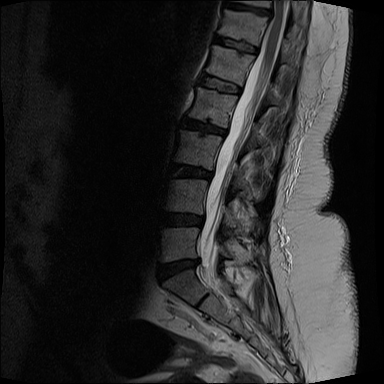Lumbar Disc Bulge (LDB): (149, 249, 220, 287), (159, 158, 227, 189), (151, 201, 212, 233), (172, 115, 239, 141)
Normal IVD: (194, 68, 245, 97)
Spondylolisthesis: (151, 246, 206, 290)
Thoracic Disc Bulge (TDB): (207, 29, 261, 58), (220, 2, 274, 16)
